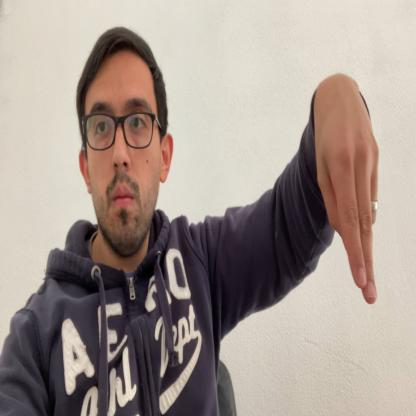N: (317, 74, 379, 305)
